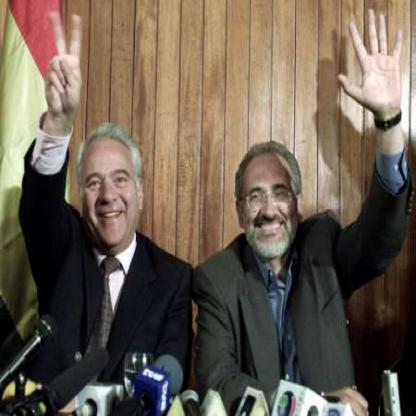face: (82, 130, 142, 247), (240, 144, 298, 260)
